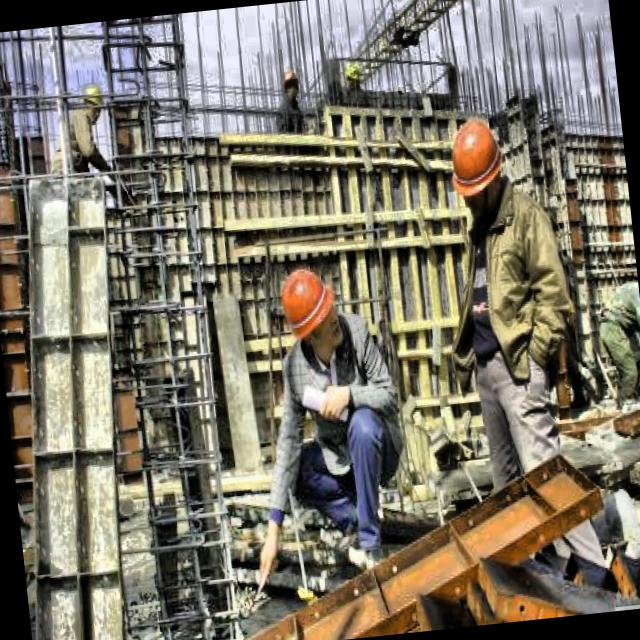helmet: (442, 107, 510, 224), (272, 260, 346, 360), (76, 74, 105, 132), (280, 66, 302, 110), (344, 58, 364, 96)
